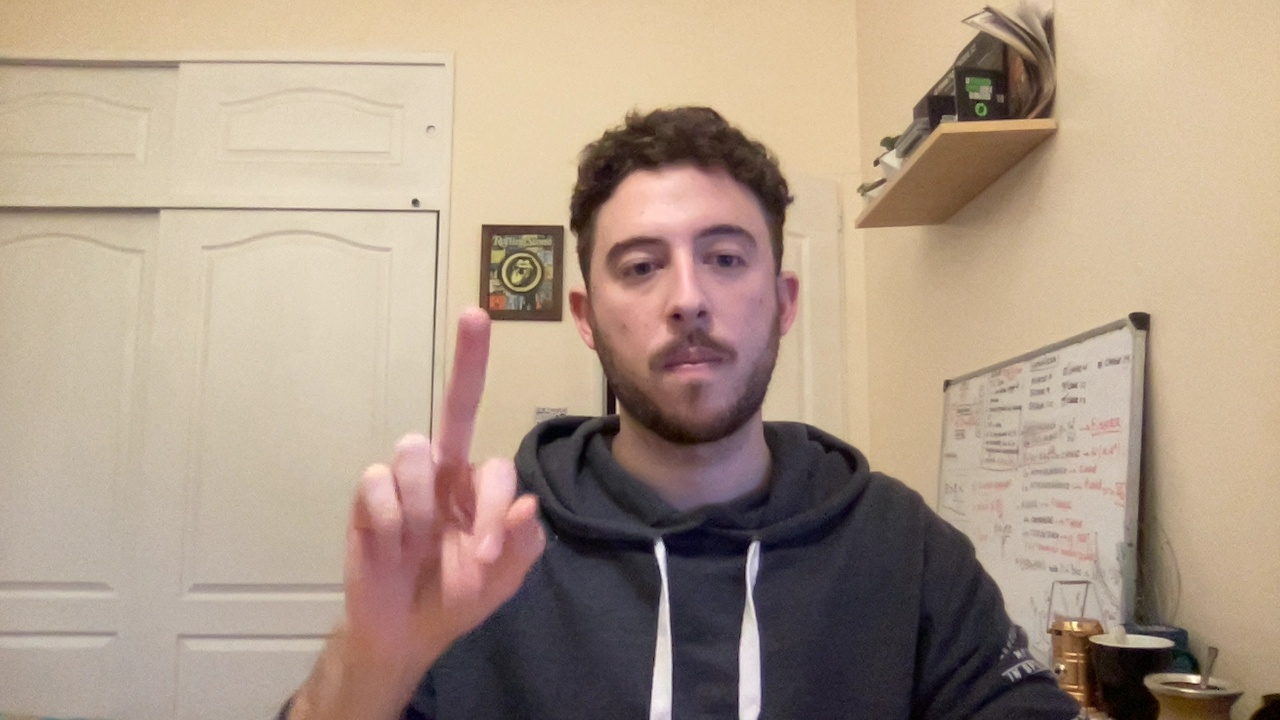mayor: (306, 302, 571, 646)
